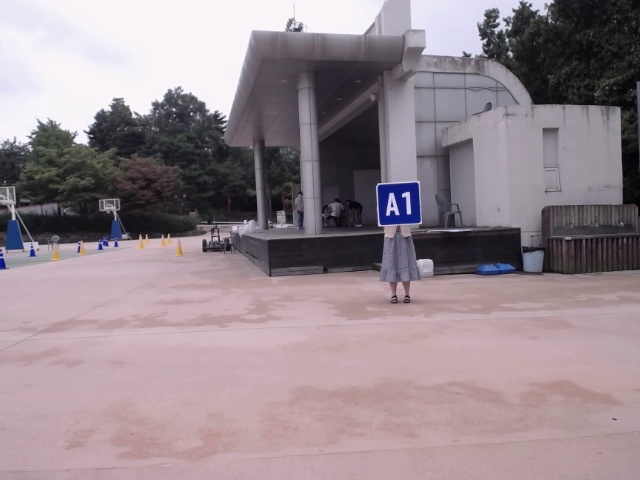delivery_a1: (377, 181, 422, 226)
